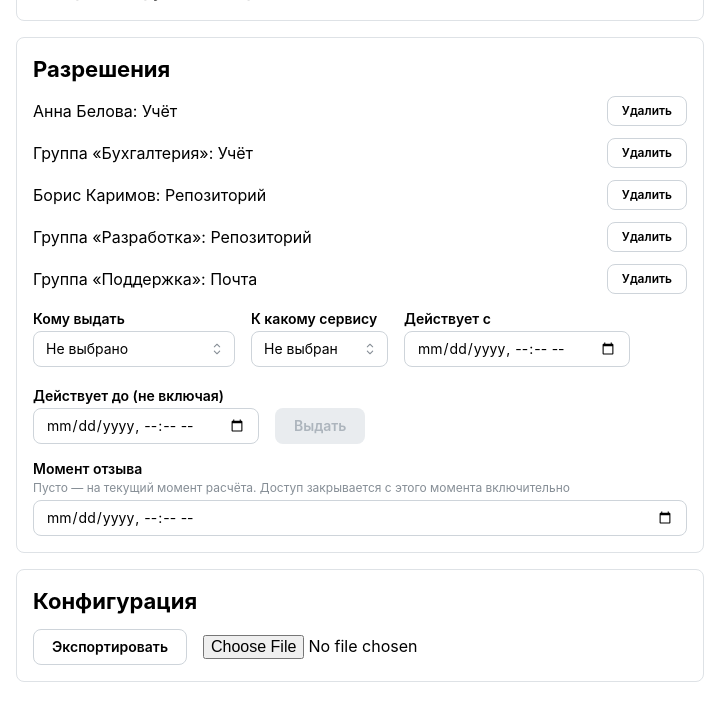
it: досрочный отзыв › кнопка отзыва есть только у временных разрешений, удаление у всех
(page scrolled)
Select "Вера Лисицына" in the dropdown with test id "permission-subject-select" at (134, 349), box [33,331,235,367]
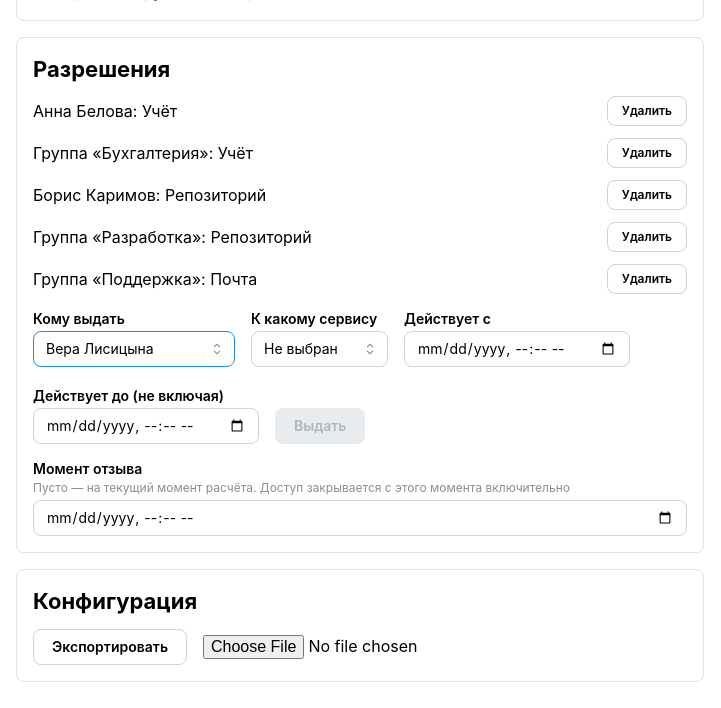
Select "Почта" in the dropdown with test id "permission-service-select" at (320, 349), box [251,331,388,367]
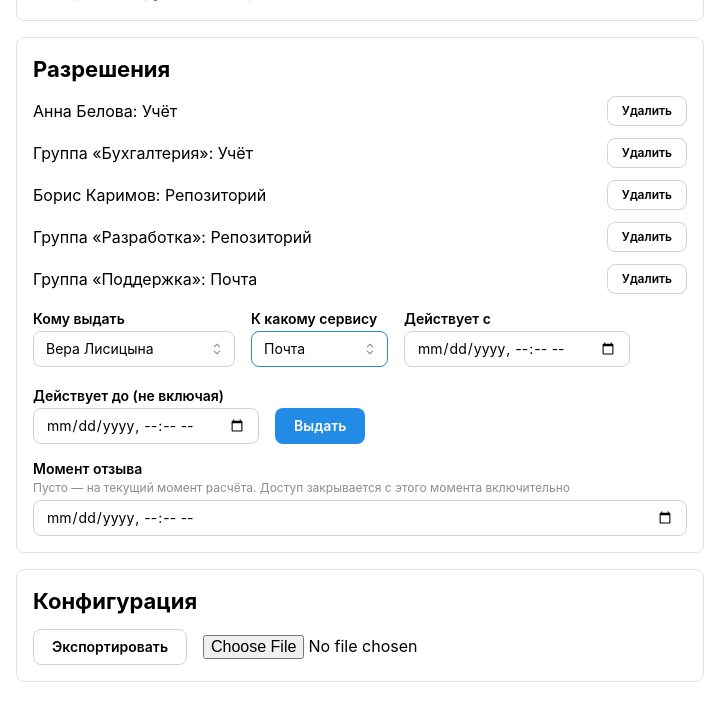
Type "2026-03-02T09:00" into the field with test id "permission-starts-at" at (517, 349), box [404,331,630,367]
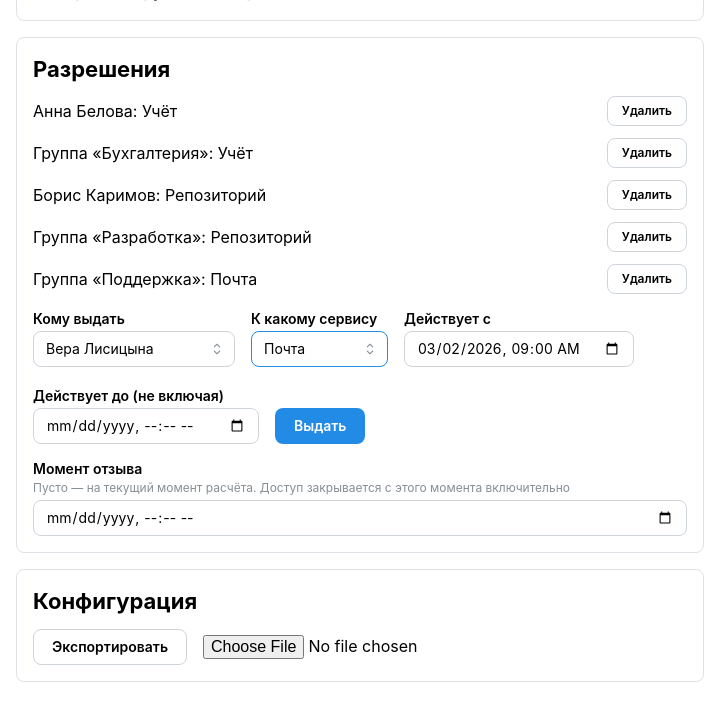
Type "2026-03-16T18:00" into the field with test id "permission-expires-at" at (146, 426), box [33,408,259,444]
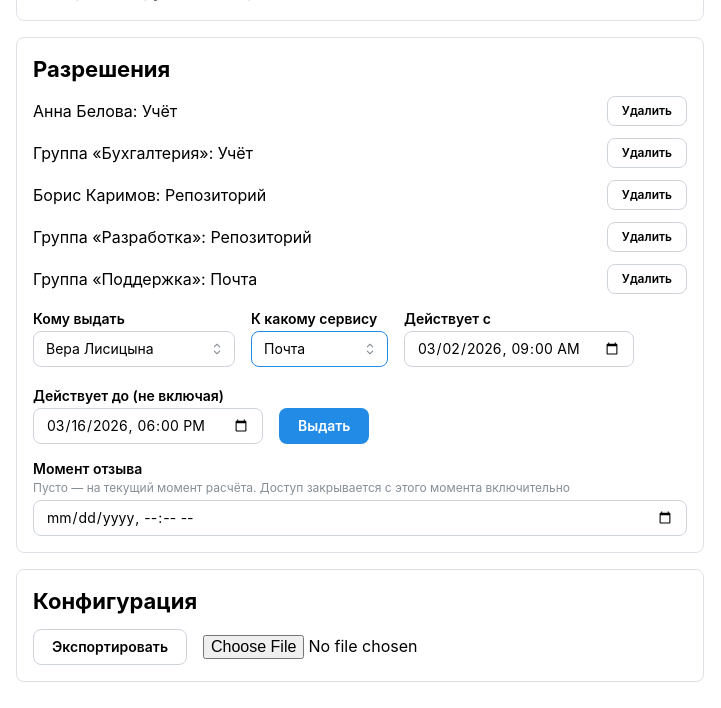
Click the button with test id "permission-add" at (324, 426), box [279,408,370,444]
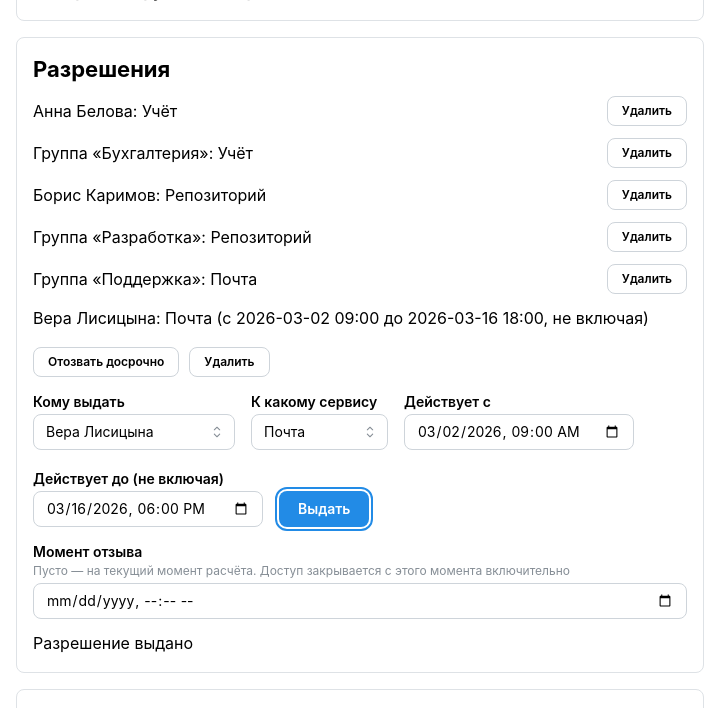
Check: the button with test id "permission-remove-p1" is shown, box [607,96,687,126]
Check: the button with test id "permission-revoke-p6" is shown, box [33,347,179,377]
Check: the button with test id "permission-remove-p6" is shown, box [189,347,270,377]
